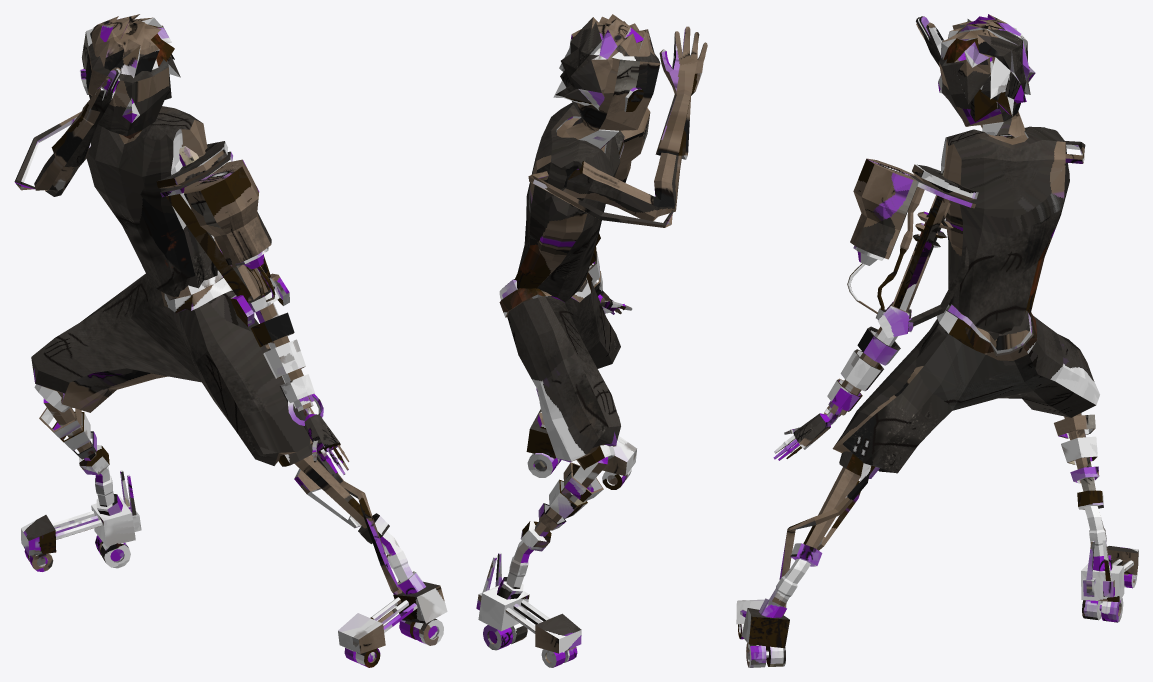
Rendered from CyborgFINALAnimation_000073.obj.
The picture shows the model from 3 angles, left to right: view 1: azimuth 30°, elevation 25°; view 2: azimuth 150°, elevation 25°; view 3: azimuth 270°, elevation 25°; orthographic projection. The views are drawn at different scales.
Visible parts, largest first — view 1: CyborgMesh_Cube.002; view 2: CyborgMesh_Cube.002; view 3: CyborgMesh_Cube.002.
Part boxes in pixels (box(x1,y1,x2,y2)): CyborgMesh_Cube.002: box(14, 14, 447, 667); CyborgMesh_Cube.002: box(476, 14, 707, 667); CyborgMesh_Cube.002: box(736, 14, 1138, 667).
Bounding box in the file's own units: 4.22 × 8.63 × 5.45.
